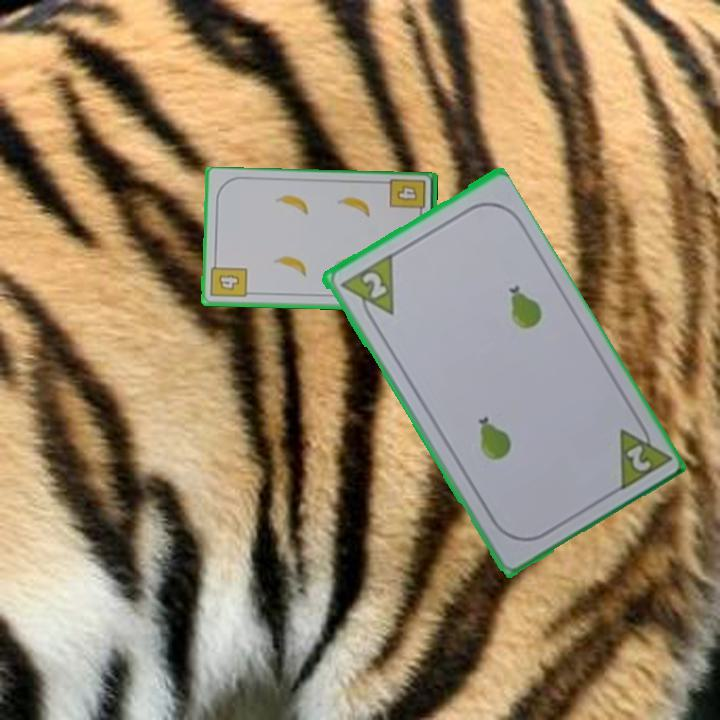2p: (613, 413, 672, 494), (357, 267, 389, 301)
4b: (387, 176, 429, 221), (207, 257, 250, 300)
